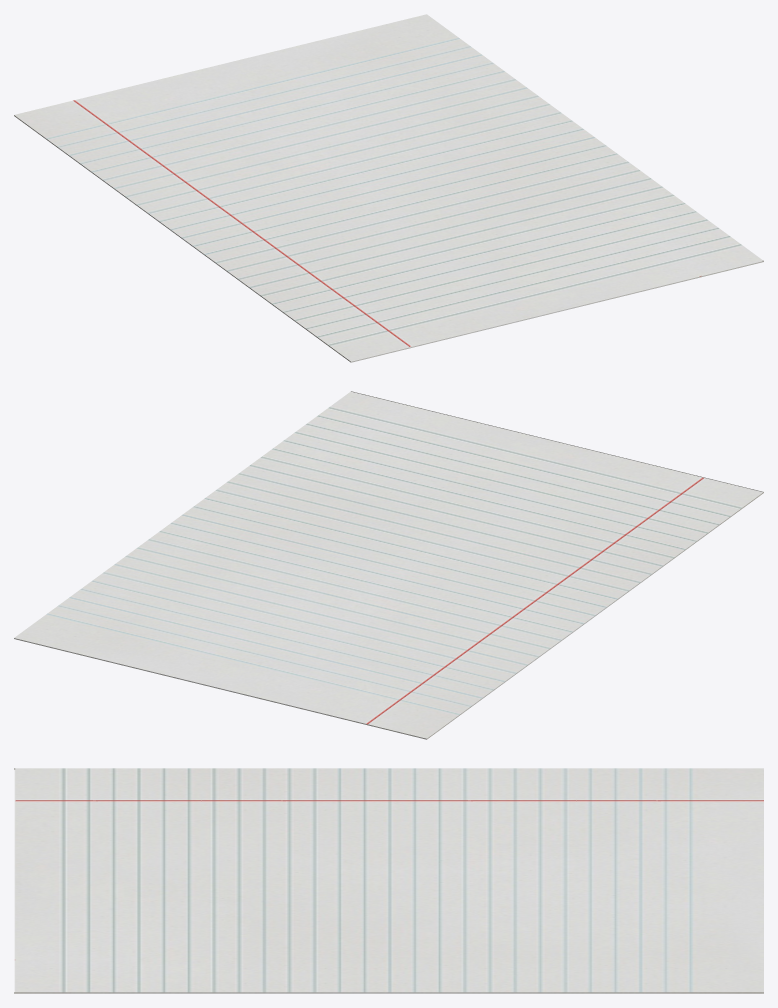
Rendered from Paper_sheet_lines.FBX.
3 renders of one model, top to bottom at view 1: azimuth 30°, elevation 25°; view 2: azimuth 150°, elevation 25°; view 3: azimuth 270°, elevation 25°, orthographic. The views are drawn at different scales.
Parts seen in each view (by area): view 1: Paper_sheet_lines; view 2: Paper_sheet_lines; view 3: Paper_sheet_lines.
Boxes of the visible parts, left/top/right/bottom form: Paper_sheet_lines: left=14, top=14, right=763, bottom=362; Paper_sheet_lines: left=14, top=391, right=763, bottom=739; Paper_sheet_lines: left=14, top=768, right=763, bottom=993.
Size of the model in its own units: 8.27 by 0.0197 by 11.69.
1 material, 1 textured.
